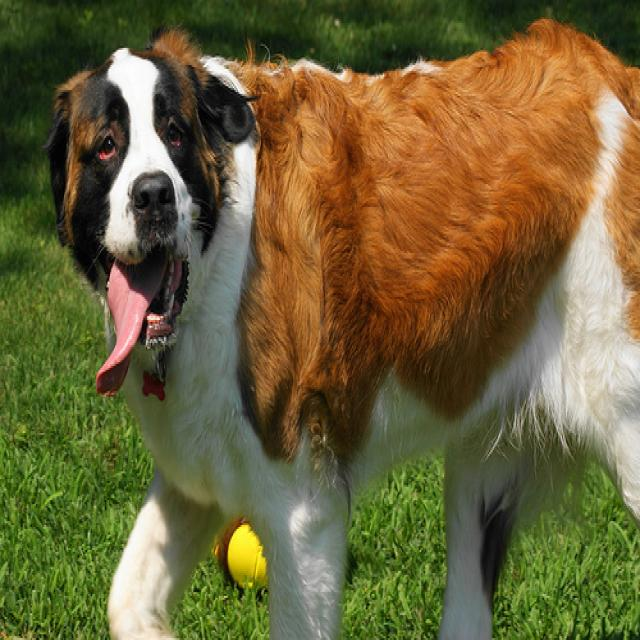dog-saint_bernard: (44, 10, 637, 636)
